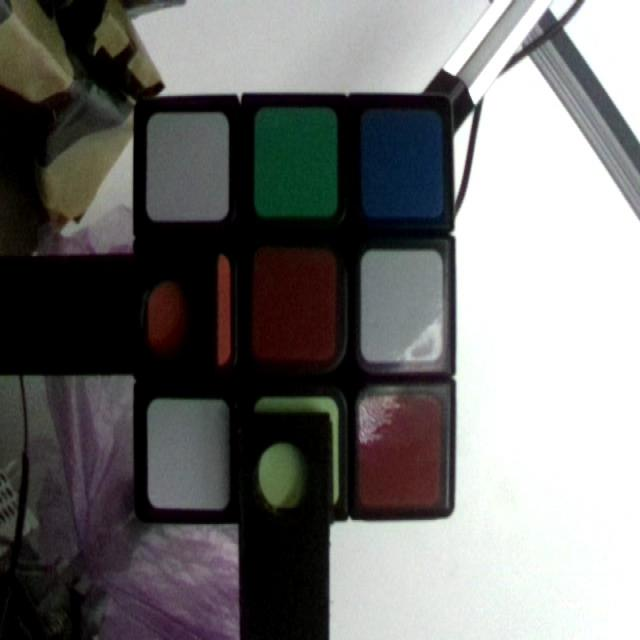b: (360, 110, 445, 220)
g: (254, 108, 337, 213)
o: (147, 257, 228, 365)
r: (360, 395, 443, 503), (255, 250, 332, 354)
w: (364, 248, 443, 360), (149, 399, 225, 509), (148, 112, 228, 214)
y: (257, 397, 341, 513)
